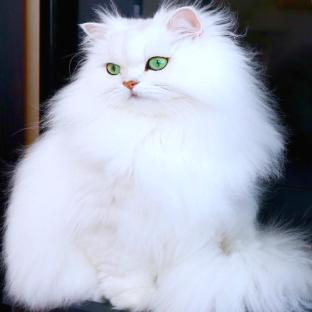Animal: (3, 1, 312, 312)
